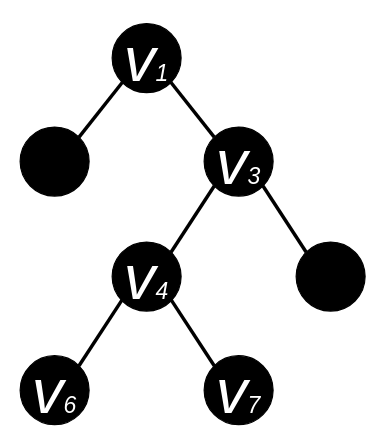
Some shapes in this 385 by 447 pixel diagram are drawn without their labels. Here are the shapes that lost their labels. From the top down, the box of each, then its label:
(19, 126, 89, 196): v 2
(295, 241, 365, 311): v 5
